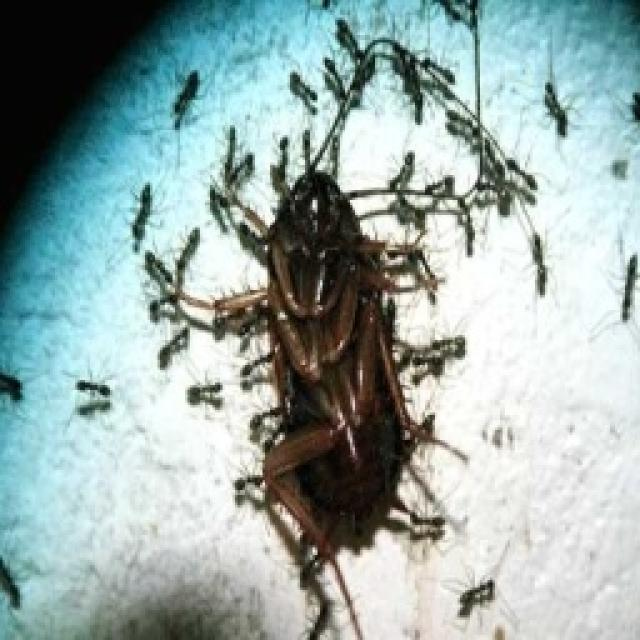cockroach: (125, 13, 556, 637)
